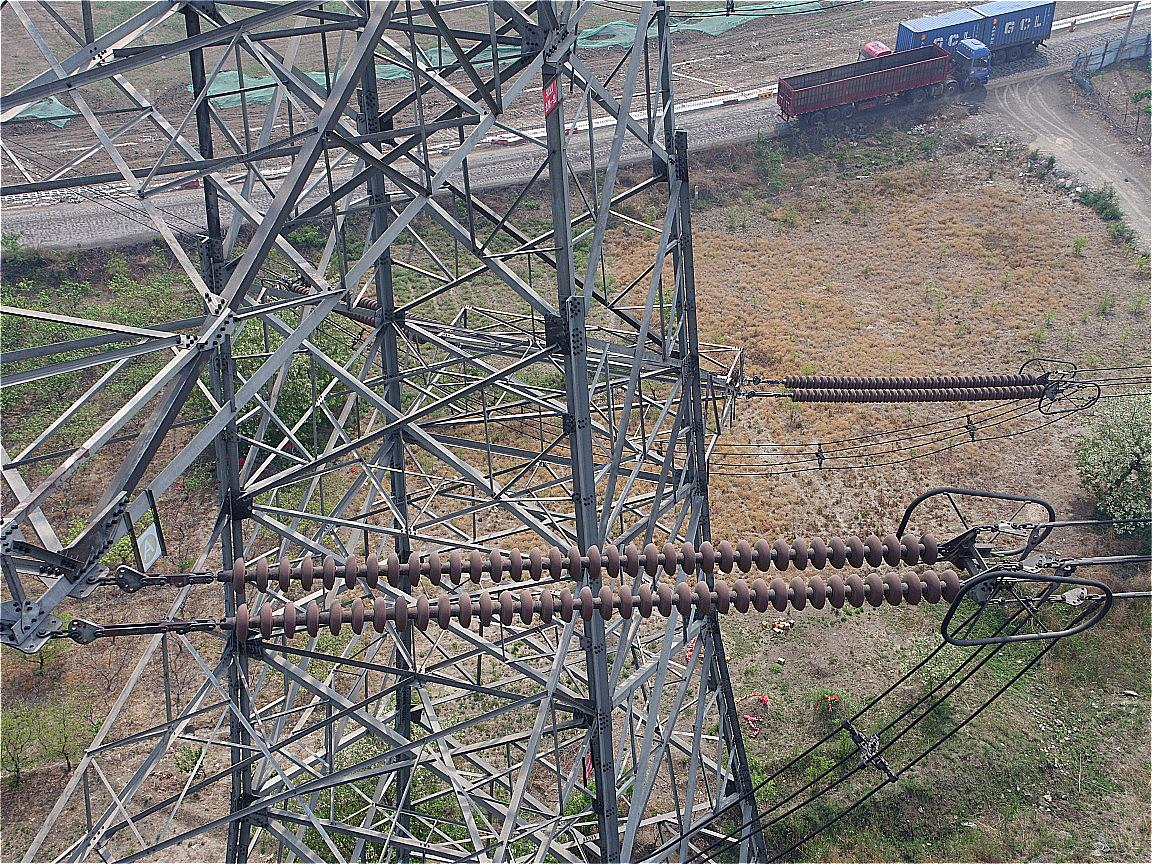insultor1: (232, 535, 962, 640)
insultor2: (784, 372, 1048, 404)
